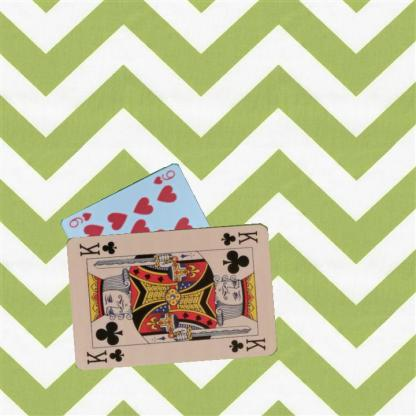9h: (150, 167, 176, 185)
Kc: (218, 228, 260, 247), (84, 346, 125, 365)
